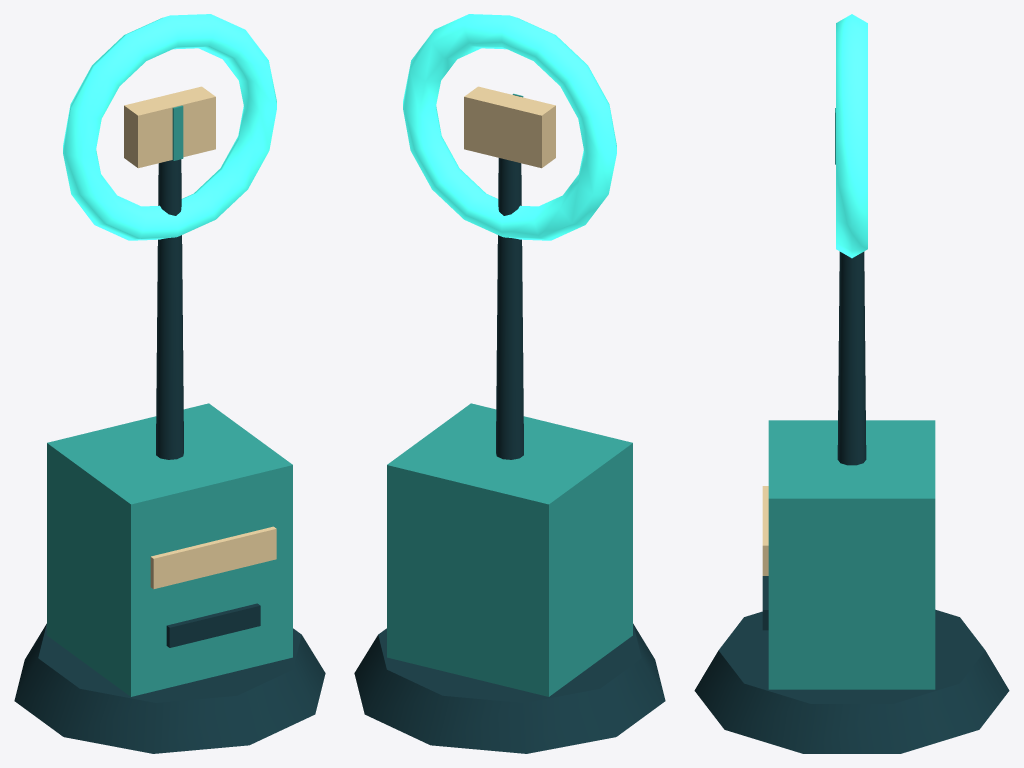
File: parcel-tower-2.glb
3 renders of one model, left to right at view 1: azimuth 30°, elevation 25°; view 2: azimuth 150°, elevation 25°; view 3: azimuth 270°, elevation 25°, orthographic.
Bounding box in the file's own units: 1.62 × 3.96 × 1.7.
